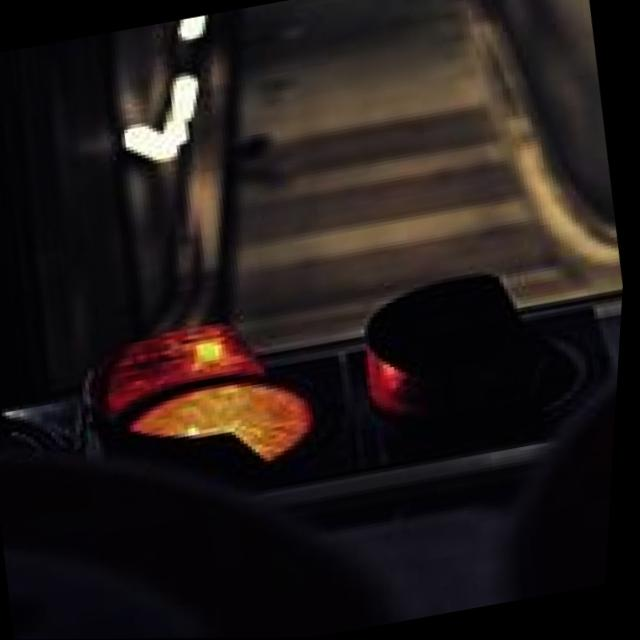yellow_light: (68, 297, 361, 526)
